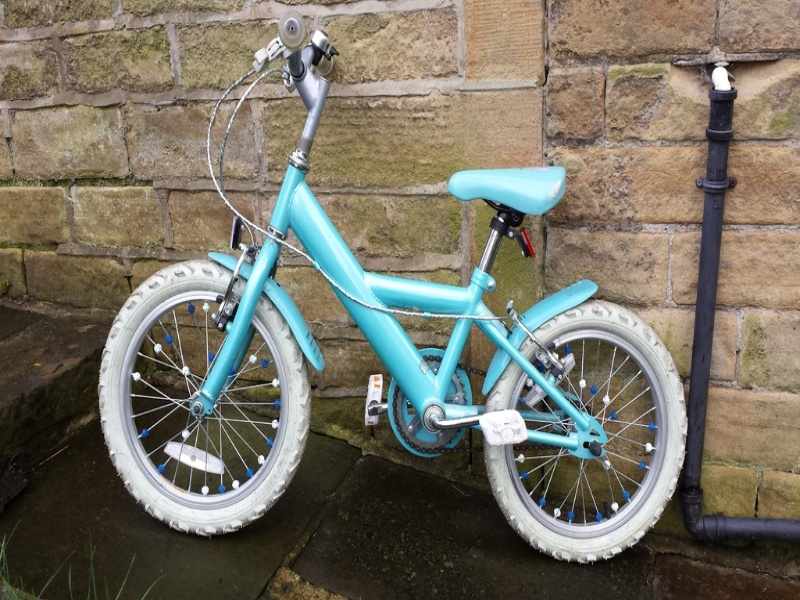bicycle: (93, 9, 692, 564)
